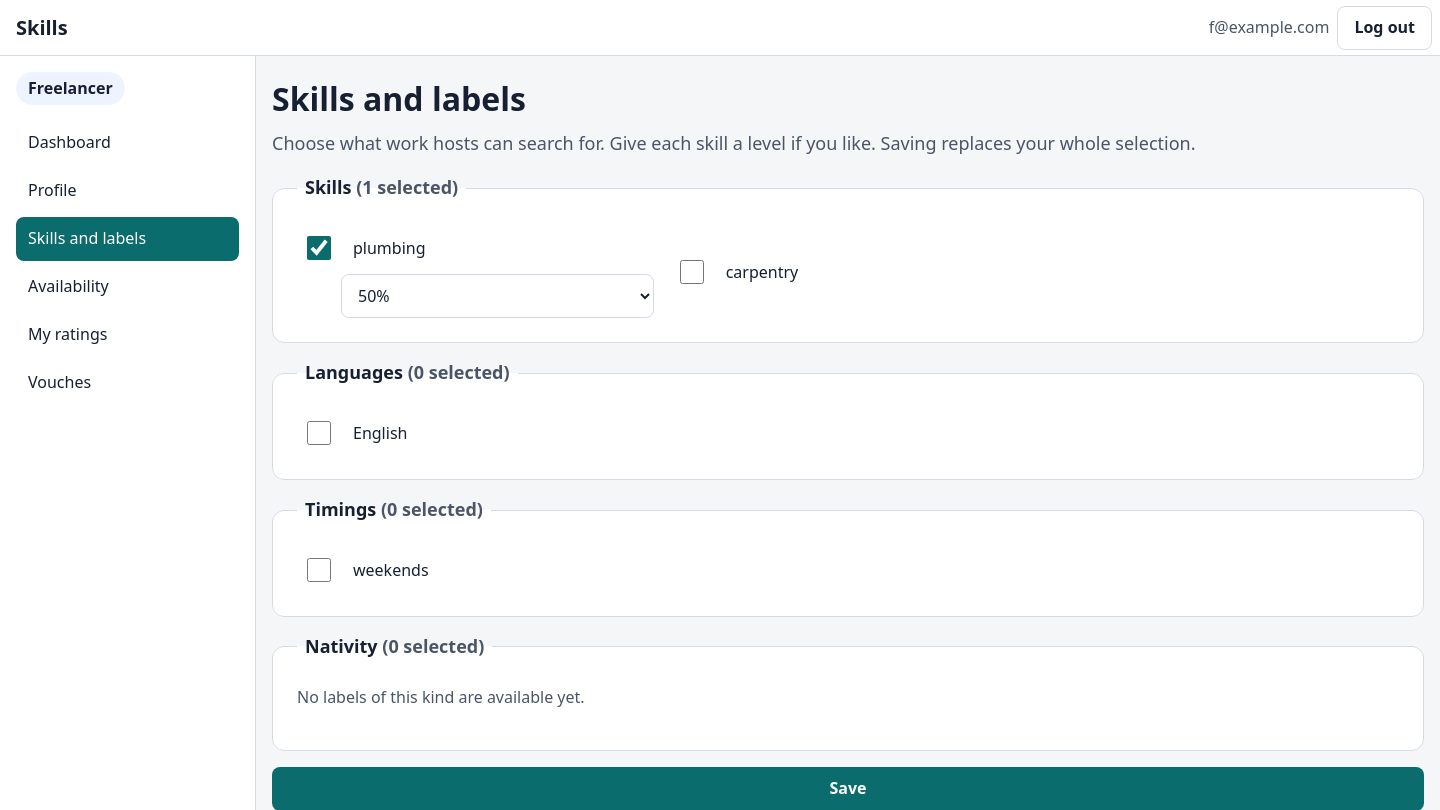
Test: skills and labels page › starts from the current selection and saves the whole set
Expected: the checkbox labelled "plumbing" is checked, x1=307 y1=236 x2=331 y2=260
Expected: the dropdown named "Level for plumbing" shows "50%", x1=341 y1=274 x2=654 y2=318
Click the checkbox labelled "carpentry" at (692,272), box x1=680 y1=260 x2=704 y2=284
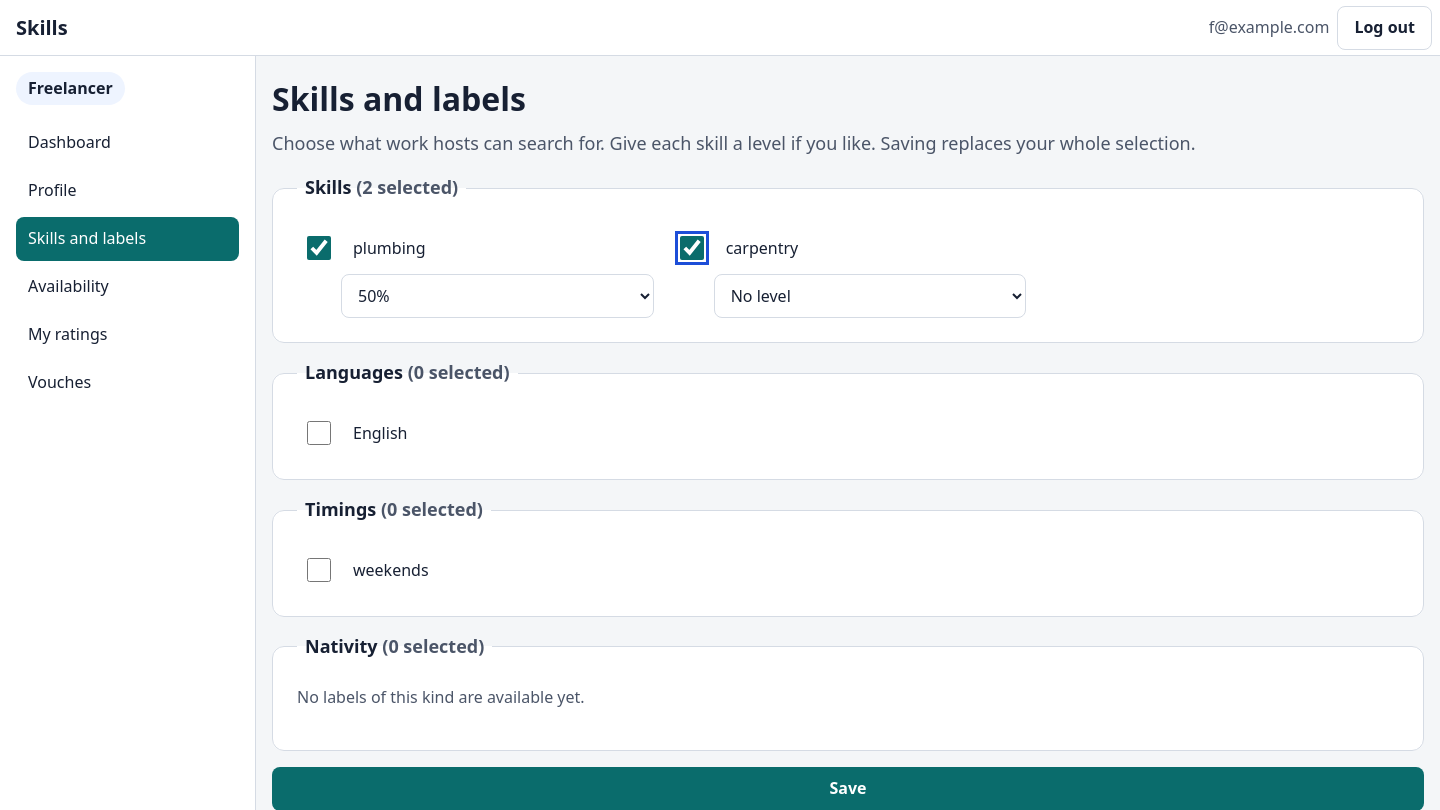
Select "80%" in the dropdown named "Level for carpentry" at (870,296), box x1=714 y1=274 x2=1026 y2=318
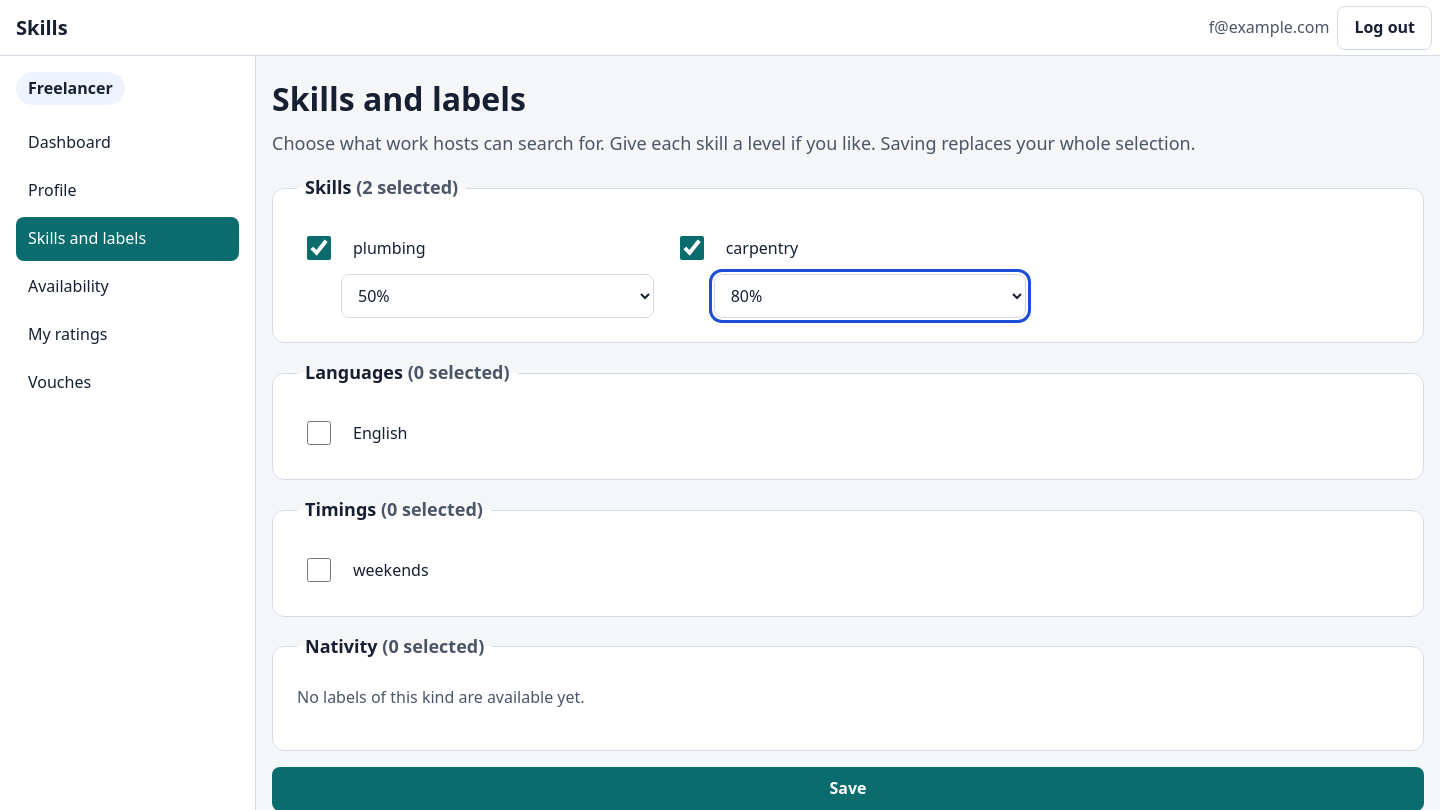
Click the checkbox labelled "English" at (319,433), box x1=307 y1=421 x2=331 y2=445
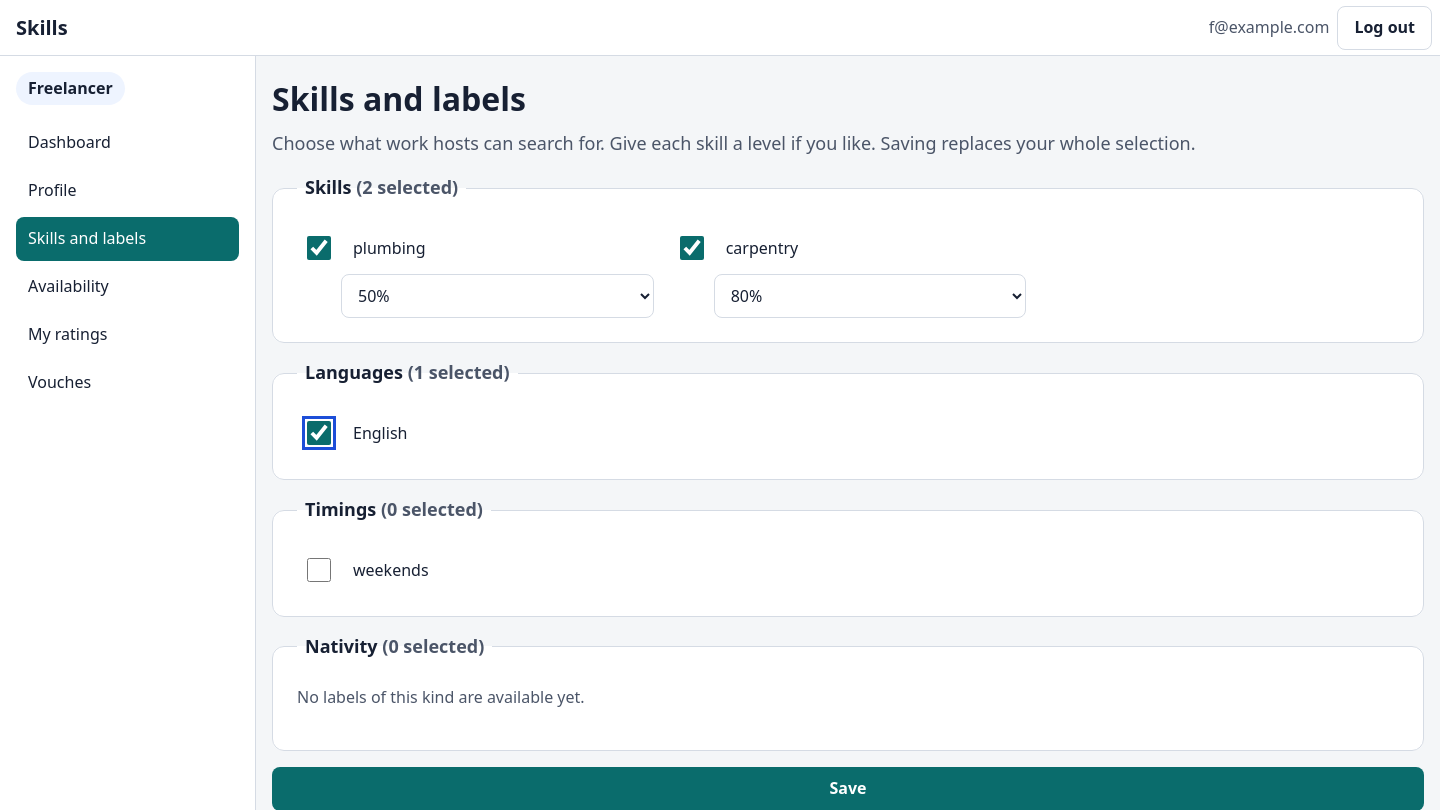
Click the button "Save" at (848,789), box x1=272 y1=767 x2=1424 y2=809
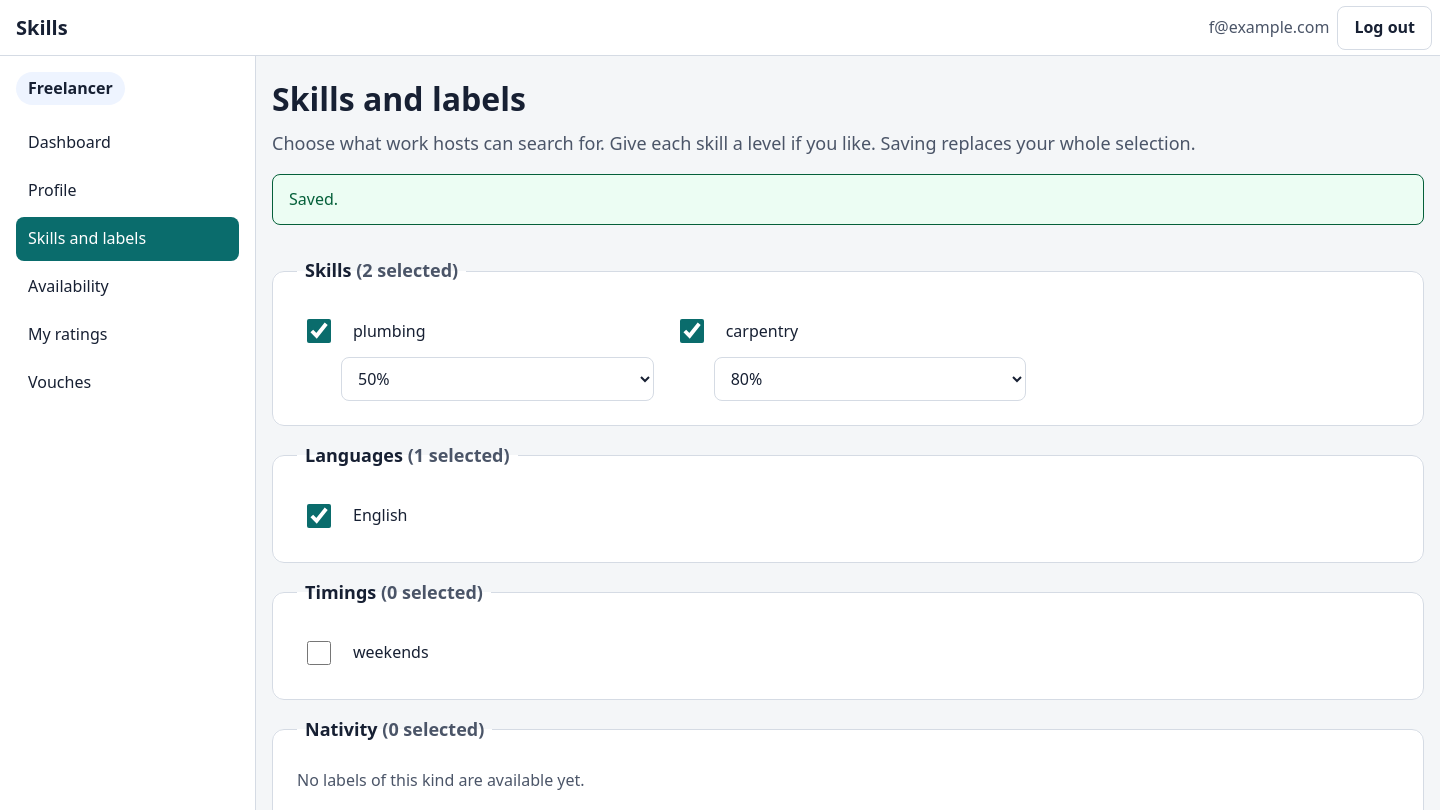
Now the message reads "Saved.", box x1=289 y1=188 x2=338 y2=210
